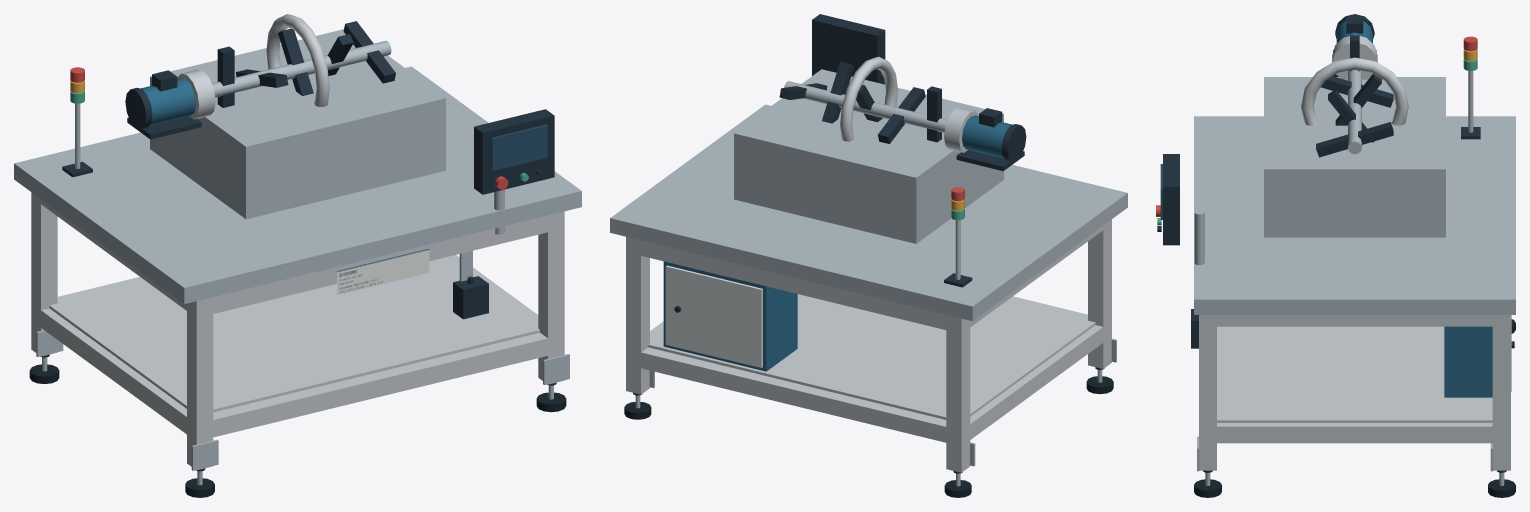
The model's file is bead-mill-cell.glb.
3 renders of one model, left to right at view 1: azimuth 30°, elevation 25°; view 2: azimuth 150°, elevation 25°; view 3: azimuth 270°, elevation 25°, orthographic. The views are drawn at different scales.
Parts seen in each view (by area): view 1: ClosedMachineBed_28, LowerShelf_29, MixerTrough_48, SlottedExtrusion_22, SlottedExtrusion_23, SlottedExtrusion_8, SlottedExtrusion_24, ConsoleBack_34, SlottedExtrusion_18, SlottedExtrusion_3, OriginalNameplate_42, Stator_62 (+13 smaller); view 2: ClosedMachineBed_28, MixerTrough_48, LowerShelf_29, BackDoor_31, SlottedExtrusion_20, SlottedExtrusion_21, SlottedExtrusion_3, ConsoleBack_34, Cabinet_30, SlottedExtrusion_13, SlottedExtrusion_24, SlottedExtrusion_8 (+10 smaller); view 3: ClosedMachineBed_28, MixerTrough_48, LowerShelf_29, SlottedExtrusion_26, Cabinet_30, SlottedExtrusion_27, SlottedExtrusion_13, SlottedExtrusion_18, Stator_62, ConsoleBack_34, MixingBlade_54, RotorShaft_49 (+7 smaller).
Boxes of the visible parts, left/top/right/bottom form: ClosedMachineBed_28: left=14, top=66, right=581, bottom=303; LowerShelf_29: left=49, top=256, right=539, bottom=412; MixerTrough_48: left=150, top=29, right=445, bottom=219; SlottedExtrusion_22: left=205, top=333, right=547, bottom=437; SlottedExtrusion_23: left=205, top=215, right=547, bottom=315; SlottedExtrusion_8: left=187, top=297, right=213, bottom=470; SlottedExtrusion_24: left=36, top=308, right=191, bottom=436; ConsoleBack_34: left=474, top=109, right=554, bottom=194; SlottedExtrusion_18: left=538, top=211, right=564, bottom=384; SlottedExtrusion_3: left=31, top=192, right=57, bottom=356; OriginalNameplate_42: left=337, top=248, right=429, bottom=294; Stator_62: left=266, top=14, right=329, bottom=106; ClosedMachineBed_28: left=610, top=104, right=1127, bottom=321; MixerTrough_48: left=734, top=69, right=1003, bottom=243; LowerShelf_29: left=648, top=294, right=1095, bottom=419; BackDoor_31: left=665, top=265, right=762, bottom=367; SlottedExtrusion_20: left=633, top=347, right=953, bottom=444; SlottedExtrusion_21: left=633, top=239, right=953, bottom=331; SlottedExtrusion_3: left=946, top=315, right=970, bottom=472; ConsoleBack_34: left=812, top=14, right=885, bottom=84; Cabinet_30: left=663, top=261, right=797, bottom=371; SlottedExtrusion_13: left=626, top=236, right=649, bottom=394; SlottedExtrusion_24: left=967, top=325, right=1107, bottom=440; SlottedExtrusion_8: left=1088, top=219, right=1111, bottom=368; ClosedMachineBed_28: left=1194, top=116, right=1515, bottom=314; MixerTrough_48: left=1264, top=77, right=1445, bottom=237; LowerShelf_29: left=1217, top=326, right=1492, bottom=422; SlottedExtrusion_26: left=1208, top=423, right=1501, bottom=443; Cabinet_30: left=1444, top=326, right=1492, bottom=397; SlottedExtrusion_27: left=1208, top=315, right=1501, bottom=326; SlottedExtrusion_13: left=1492, top=315, right=1510, bottom=470; SlottedExtrusion_18: left=1199, top=315, right=1216, bottom=470; Stator_62: left=1301, top=57, right=1408, bottom=125; ConsoleBack_34: left=1163, top=154, right=1179, bottom=245; MixingBlade_54: left=1316, top=122, right=1393, bottom=157; RotorShaft_49: left=1348, top=70, right=1361, bottom=154.
Bounding box in the file's own units: 1.55 × 1.39 × 1.29.
Materials: 11 (1 with a texture image).
